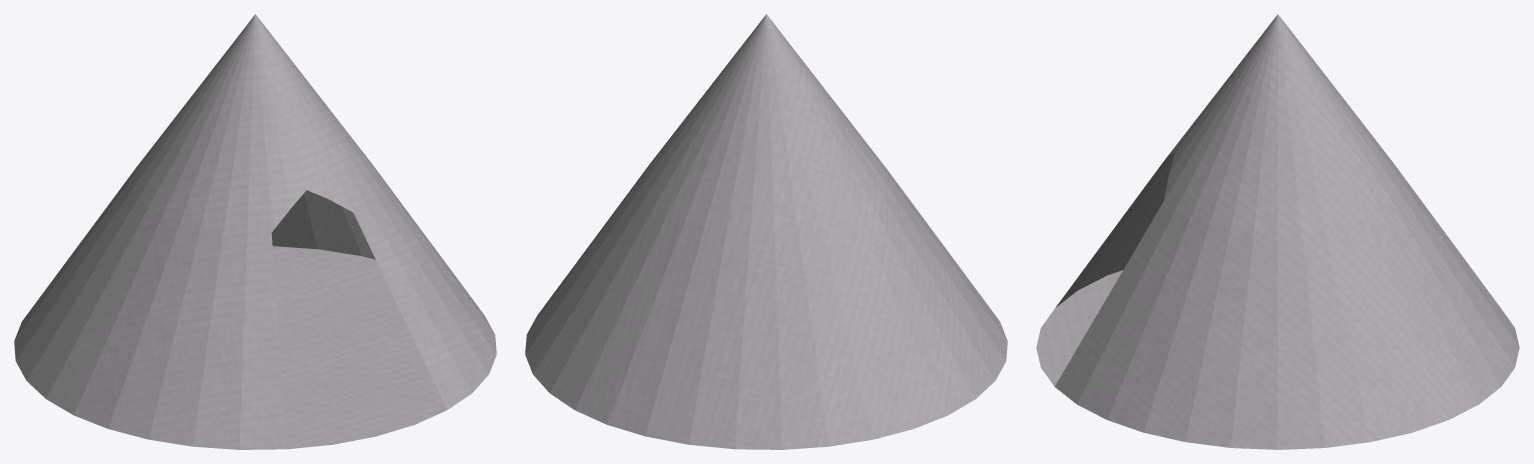
The model's file is MKU_fest_tent_tipi_fin.fbx.
The picture shows the model from 3 angles, left to right: view 1: azimuth 30°, elevation 25°; view 2: azimuth 150°, elevation 25°; view 3: azimuth 270°, elevation 25°; orthographic projection.
Parts seen in each view (by area): view 1: tent 1; view 2: tent 1; view 3: tent 1.
Boxes of the visible parts, <box> form: tent 1: <box>14,14,496,449</box>; tent 1: <box>525,14,1007,449</box>; tent 1: <box>1036,14,1519,449</box>.
Size of the model in its own units: 330 by 251 by 330.
